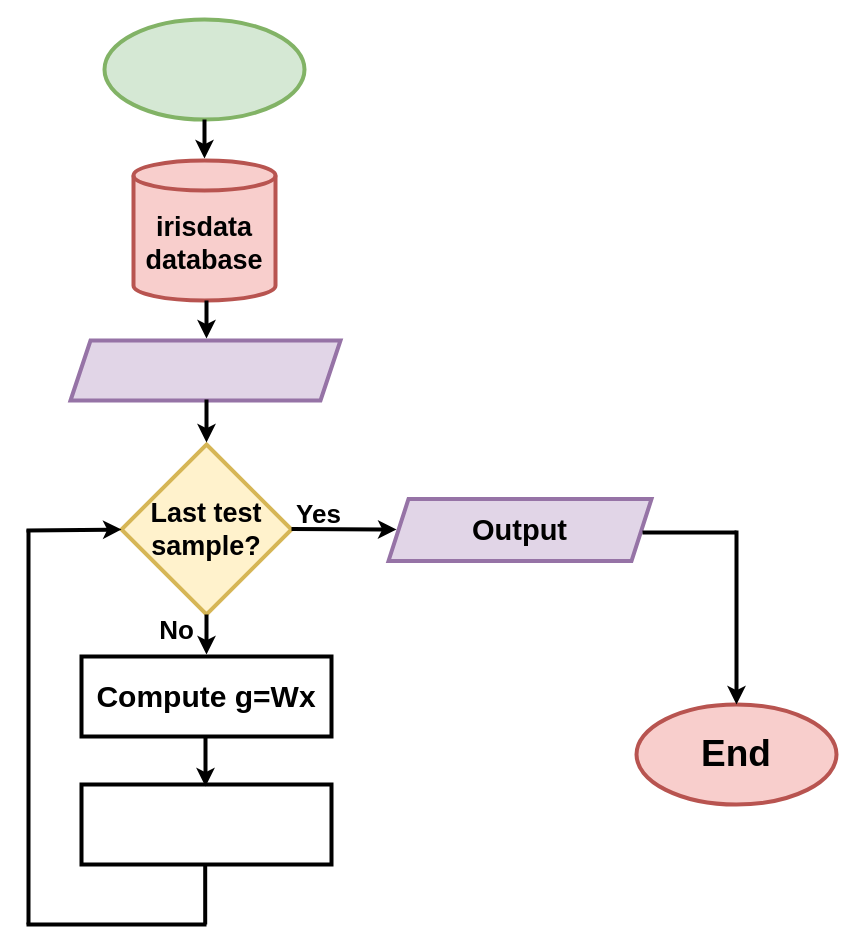
The diagram is 855 pixels wide and 944 high, and some of its shapes have lost their labels. The centre of each missing label's shape, as x and y in pixels:
"Fetch the argument in g with the largest value" goes at point 206,824.
"Input" goes at point 205,370.
"Start" goes at point 204,69.
